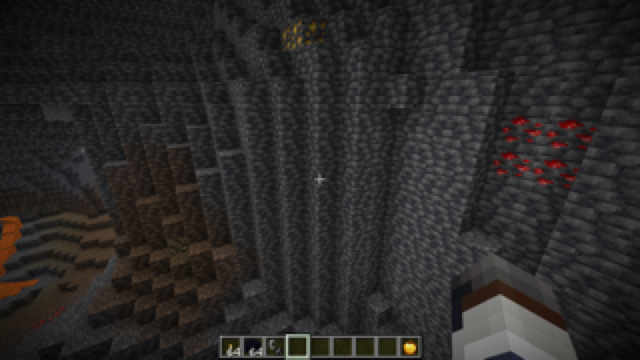gold: (274, 15, 326, 51)
redstone: (491, 108, 598, 189)
